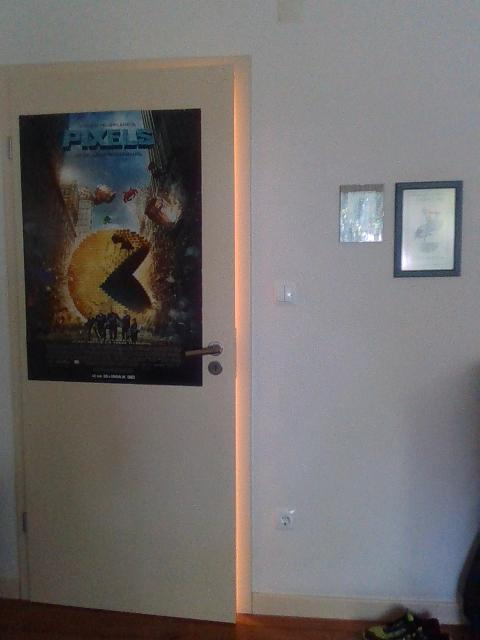closed_door: (1, 53, 253, 633)
